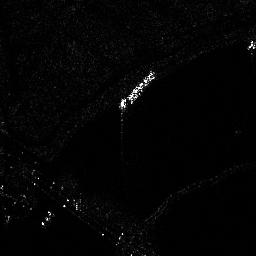ship: (119, 71, 156, 110)
